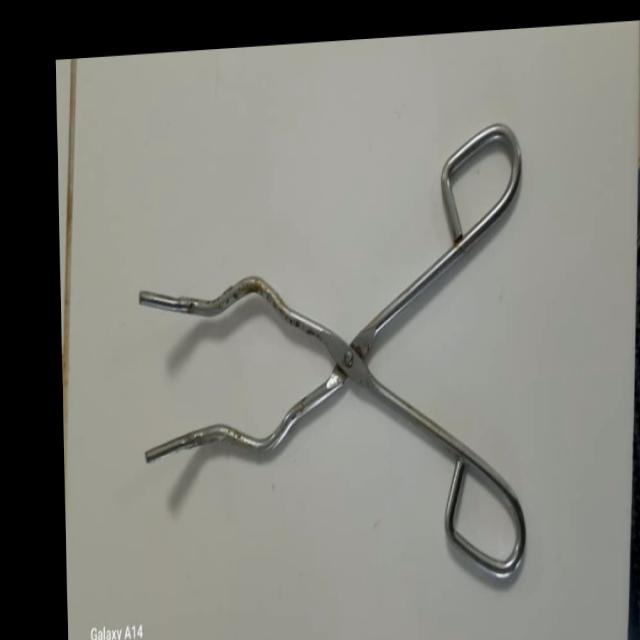Tongue: (117, 118, 552, 618)
